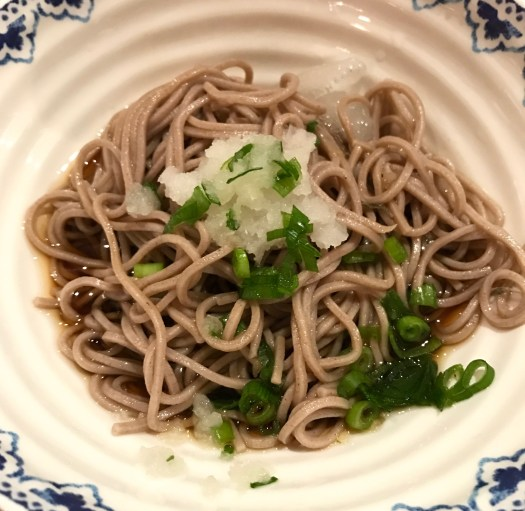Soba: (31, 64, 525, 456)
